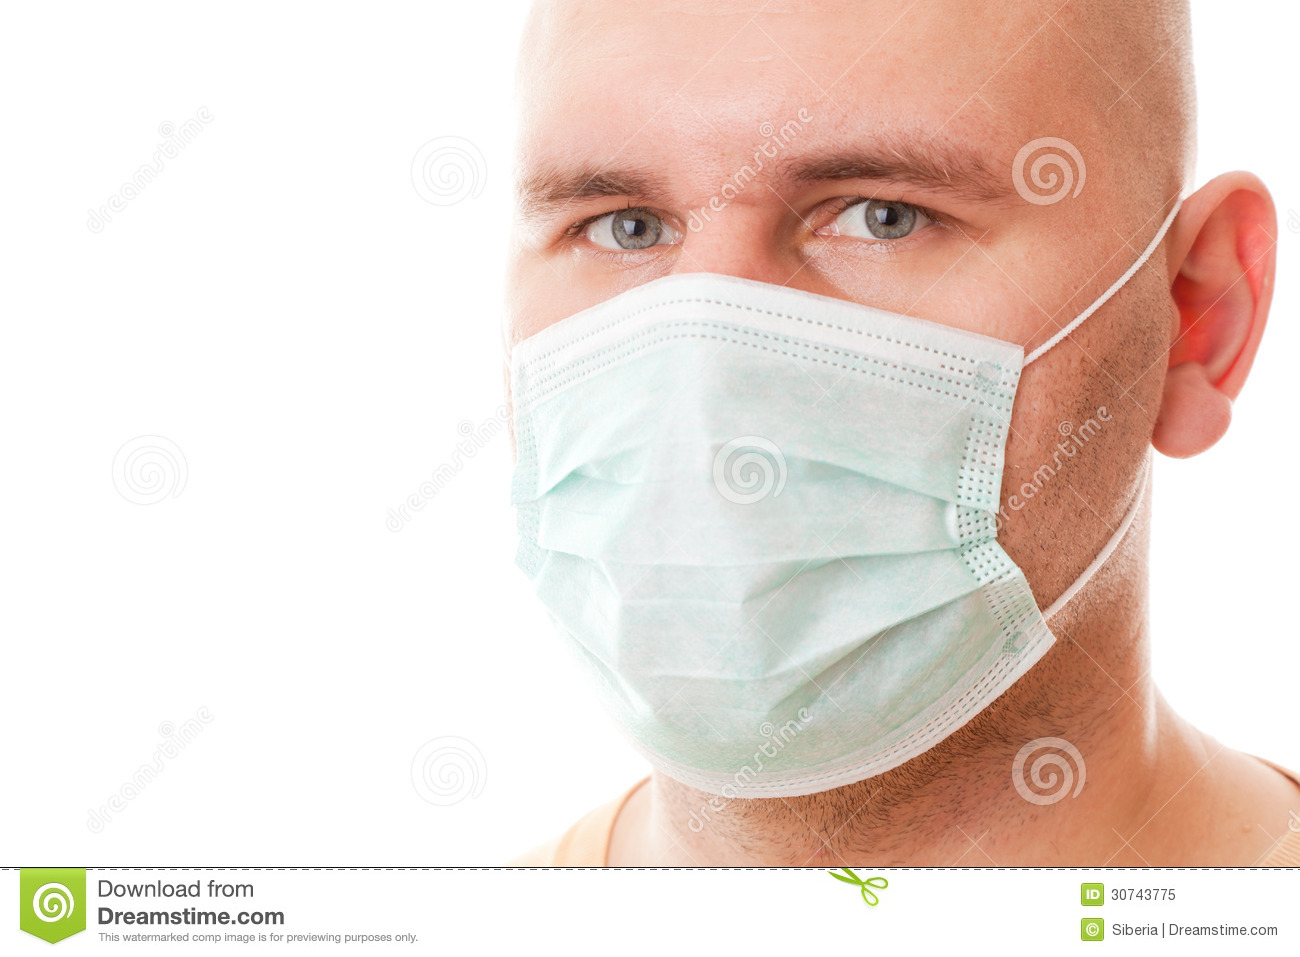mask: (507, 274, 1046, 799)
